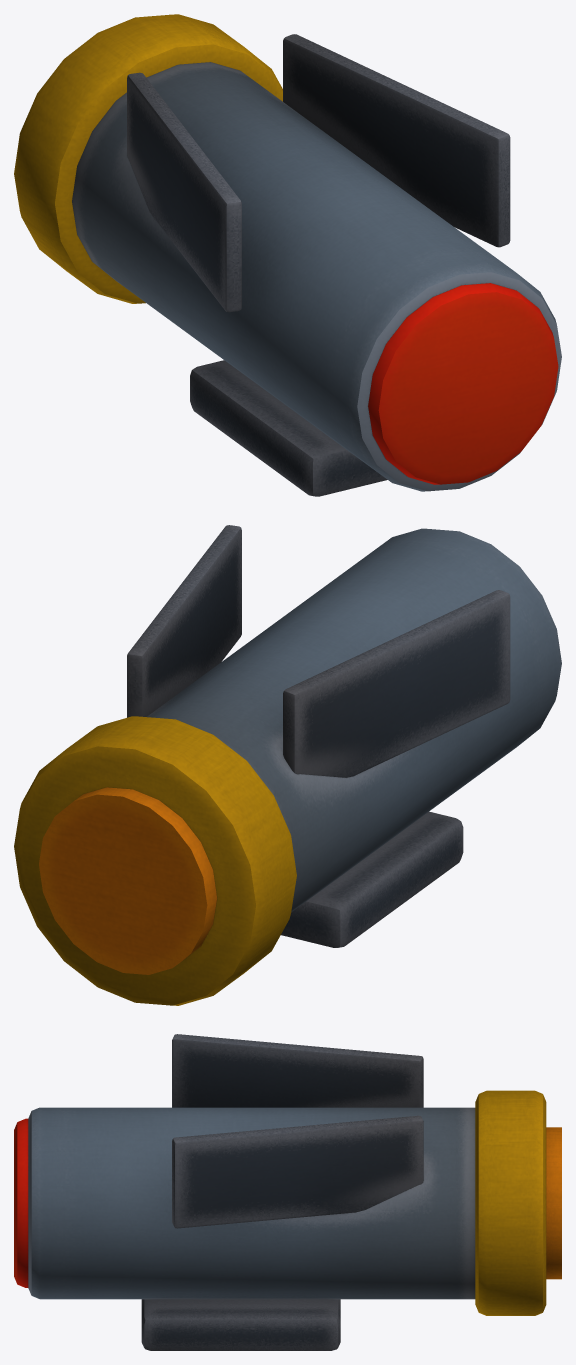
The model's file is ShipBoost.fbx.
3 renders of one model, top to bottom at view 1: azimuth 30°, elevation 25°; view 2: azimuth 150°, elevation 25°; view 3: azimuth 270°, elevation 25°, orthographic. The views are drawn at different scales.
Parts seen in each view (by area): view 1: ShipBoost; view 2: ShipBoost; view 3: ShipBoost.
Boxes of the visible parts, x1,y1,x2,y2 form: ShipBoost: [14, 14, 561, 496]; ShipBoost: [14, 525, 561, 1005]; ShipBoost: [14, 1034, 561, 1350].
Size of the model in its own units: 0.9115 by 0.92 by 1.93.
